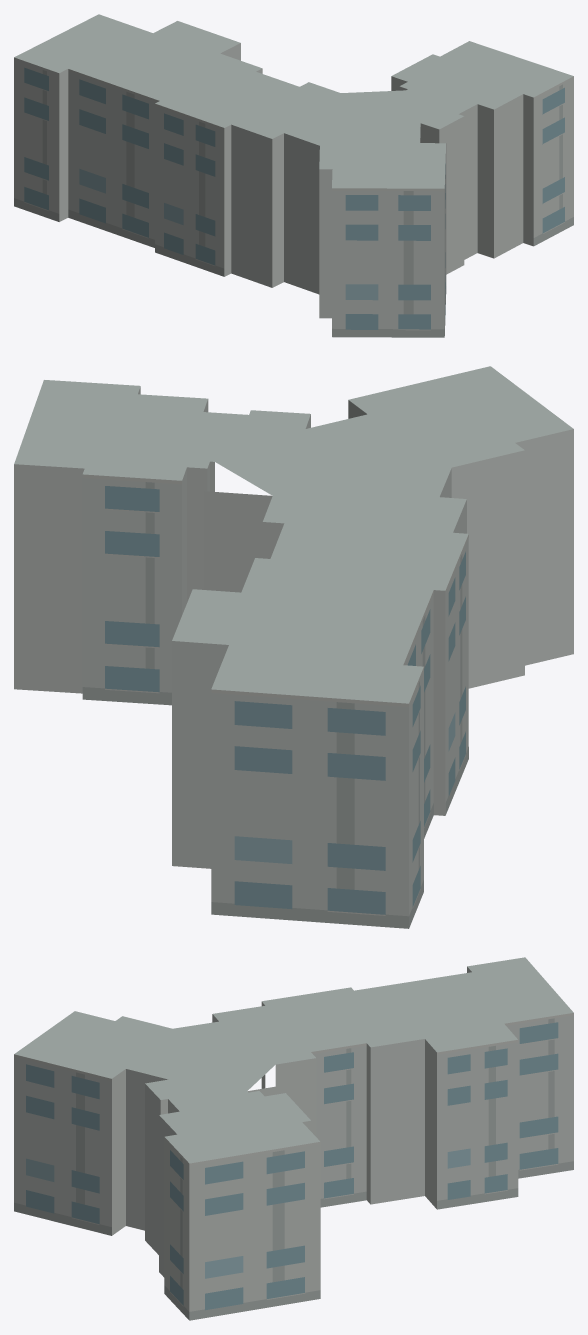
The model's file is residential-57992b0f-da02-4041-b332-f2c60d9ffd37.glb.
3 views of the same model, one above another, from view 1: azimuth 30°, elevation 25°; view 2: azimuth 150°, elevation 25°; view 3: azimuth 270°, elevation 25° (orthographic). The views are drawn at different scales.
Visible parts, largest first — view 1: residential-57992b0f-da02-4041-b332-f2c60d9ffd37.tmp; view 2: residential-57992b0f-da02-4041-b332-f2c60d9ffd37.tmp; view 3: residential-57992b0f-da02-4041-b332-f2c60d9ffd37.tmp.
Part boxes in pixels (x1,y1,x2,y2): residential-57992b0f-da02-4041-b332-f2c60d9ffd37.tmp: [14, 14, 573, 337]; residential-57992b0f-da02-4041-b332-f2c60d9ffd37.tmp: [14, 366, 573, 928]; residential-57992b0f-da02-4041-b332-f2c60d9ffd37.tmp: [14, 957, 573, 1320].
Bounding box in the file's own units: 42.95 × 15.25 × 49.26.
